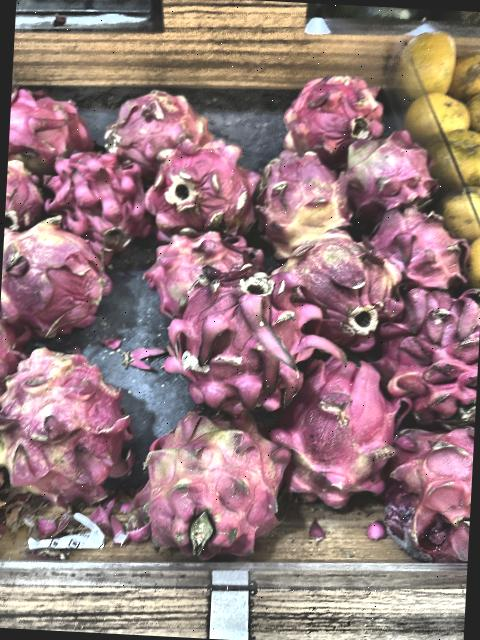buah-naga-belum-matang: (138, 402, 292, 546), (263, 216, 409, 352), (0, 347, 122, 494), (0, 217, 111, 326), (259, 142, 352, 236)
buah-naga-matang: (168, 274, 324, 406), (285, 358, 401, 516), (379, 273, 480, 421), (380, 418, 475, 550), (44, 150, 160, 247), (147, 150, 262, 238), (154, 227, 268, 300), (290, 72, 392, 152), (369, 201, 463, 287), (340, 133, 436, 216), (99, 90, 209, 154), (10, 84, 98, 154), (5, 154, 50, 228)
